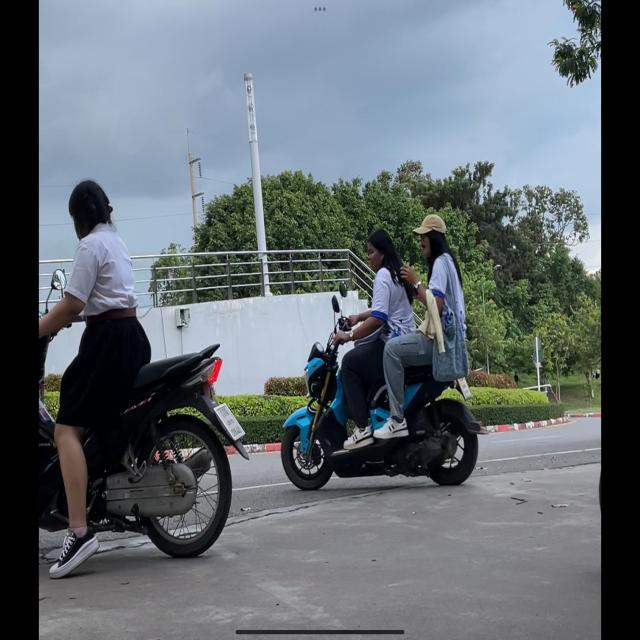seatbelt: (66, 176, 110, 242), (412, 213, 449, 260), (367, 228, 392, 272)
